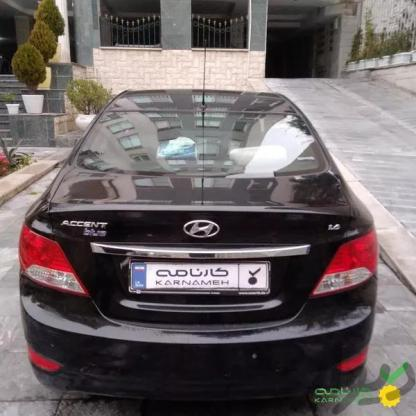Car: (17, 87, 383, 395)
